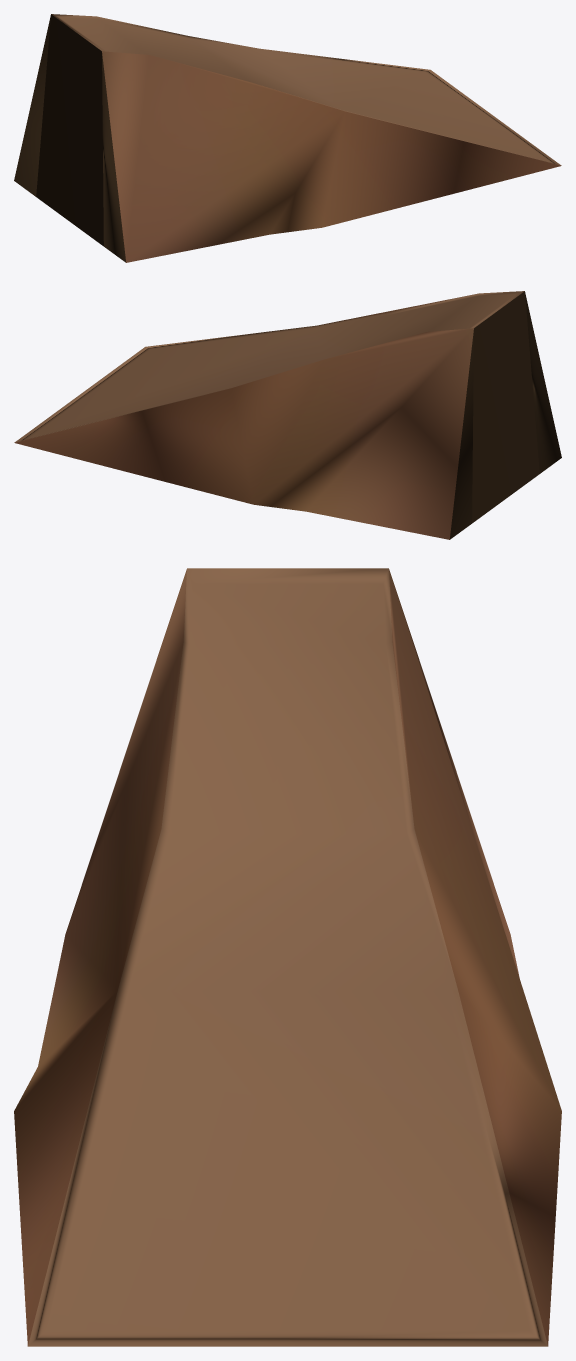
Rendered from DirtBikeTrackJumpNarrowLanding.glb.
3 views of the same model, one above another, from view 1: azimuth 30°, elevation 25°; view 2: azimuth 150°, elevation 25°; view 3: azimuth 270°, elevation 25° (orthographic). The views are drawn at different scales.
Visible parts, largest first — view 1: DirtBikeTrackJumpNarrowLanding; view 2: DirtBikeTrackJumpNarrowLanding; view 3: DirtBikeTrackJumpNarrowLanding.
Boxes of the visible parts, x1,y1,x2,y2 form: DirtBikeTrackJumpNarrowLanding: [14, 14, 561, 262]; DirtBikeTrackJumpNarrowLanding: [14, 291, 561, 539]; DirtBikeTrackJumpNarrowLanding: [14, 568, 561, 1346].
Size of the model in its own units: 7.5 by 3.16 by 4.21.
1 material, 1 textured.
